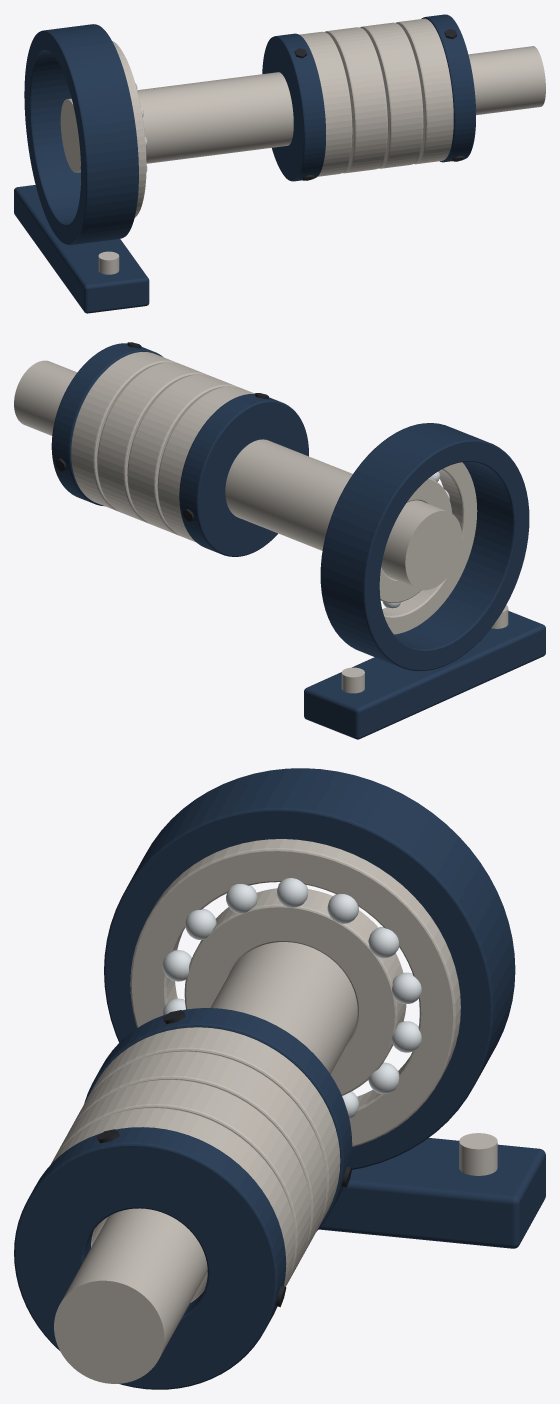
File: robots-45.glb
The picture shows the model from 3 angles, top to bottom: view 1: azimuth 30°, elevation 25°; view 2: azimuth 150°, elevation 25°; view 3: azimuth 270°, elevation 25°; orthographic projection. The views are drawn at different scales.
Parts seen in each view (by area): view 1: mount, coupling, shafts, collars, races, bolts; view 2: mount, coupling, shafts, collars, races, bolts; view 3: mount, collars, races, coupling, shafts, balls, bolts, clamp-screws.
Boxes of the visible parts, x1,y1,x2,y2 form: mount: (14,24,149,313); coupling: (300,18,453,176); shafts: (60,46,545,172); collars: (262,14,475,181); races: (112,41,146,217); bolts: (98,251,119,274); mount: (304,423,545,739); coupling: (71,352,254,542); shafts: (14,360,461,590); collars: (51,343,308,556); races: (379,462,477,634); bolts: (341,605,508,693); mount: (104,768,545,1248); collars: (14,1008,352,1389); races: (130,839,460,1147); coupling: (51,1027,340,1302); shafts: (54,942,357,1383); balls: (162,878,421,1118); bolts: (459,1133,497,1175); clamp-screws: (96,1010,352,1307).
Size of the model in its own units: 2.72 by 1.27 by 1.47.
